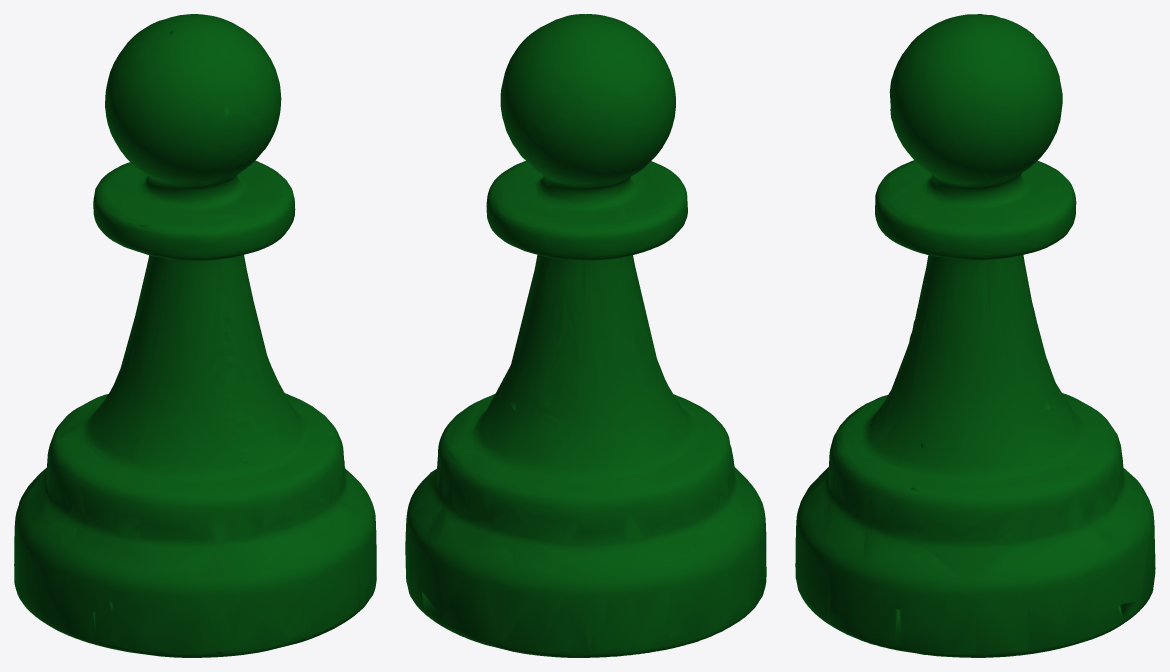
Rendered from fichaverde.glb.
3 views of the same model, side by side, from view 1: azimuth 30°, elevation 25°; view 2: azimuth 150°, elevation 25°; view 3: azimuth 270°, elevation 25° (orthographic).
Visible parts, largest first — view 1: Mesh1.0; view 2: Mesh1.0; view 3: Mesh1.0.
Part boxes in pixels (left/top/right/bottom): Mesh1.0: left=14, top=14, right=376, bottom=657; Mesh1.0: left=405, top=14, right=766, bottom=657; Mesh1.0: left=795, top=14, right=1155, bottom=657.
Bounding box in the file's own units: 0.4603 × 0.7902 × 0.458.
